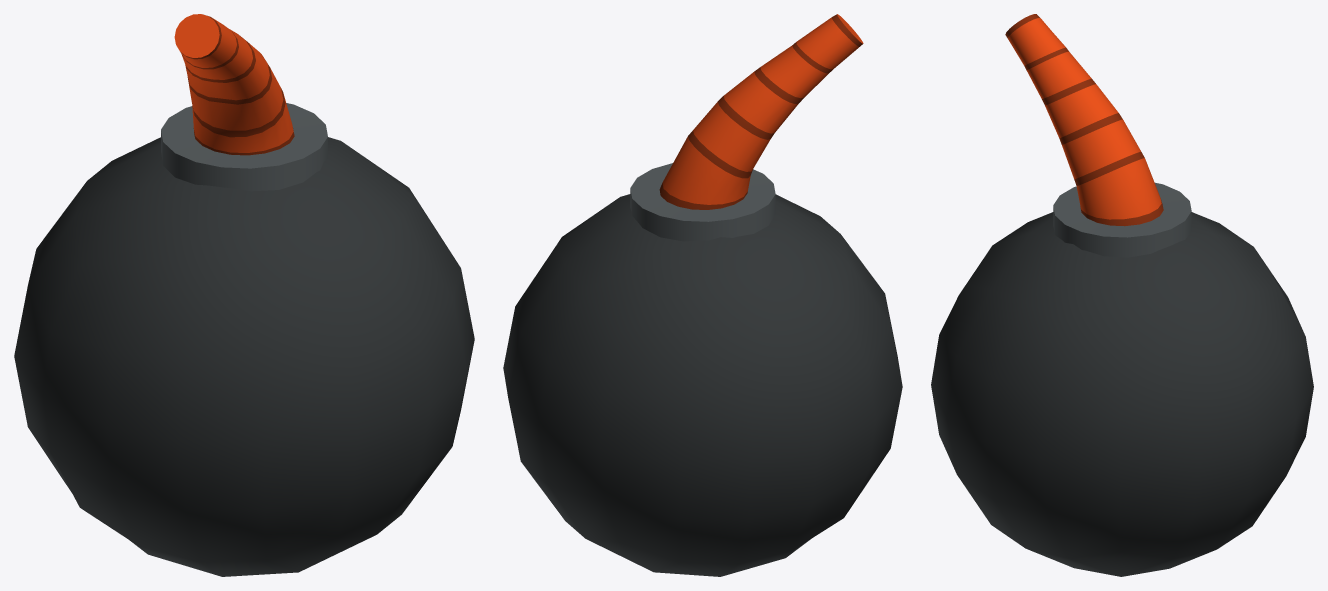
Rendered from bomb2-food.fbx.
3 renders of one model, left to right at view 1: azimuth 30°, elevation 25°; view 2: azimuth 150°, elevation 25°; view 3: azimuth 270°, elevation 25°, orthographic. The views are drawn at different scales.
Visible parts, largest first — view 1: bomb2-food; view 2: bomb2-food; view 3: bomb2-food.
Boxes of the visible parts, x1,y1,x2,y2 form: bomb2-food: (14, 14, 474, 576); bomb2-food: (503, 14, 902, 576); bomb2-food: (931, 14, 1313, 576).
Bounding box in the file's own units: 0.1947 × 0.2826 × 0.1947.
